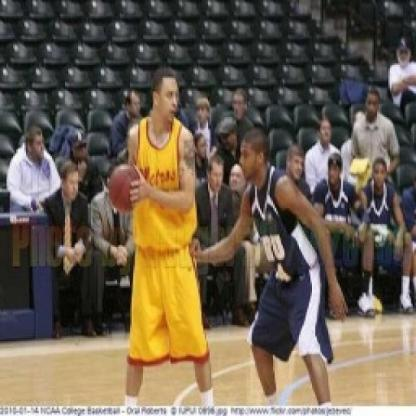basketball: (98, 160, 150, 211)
